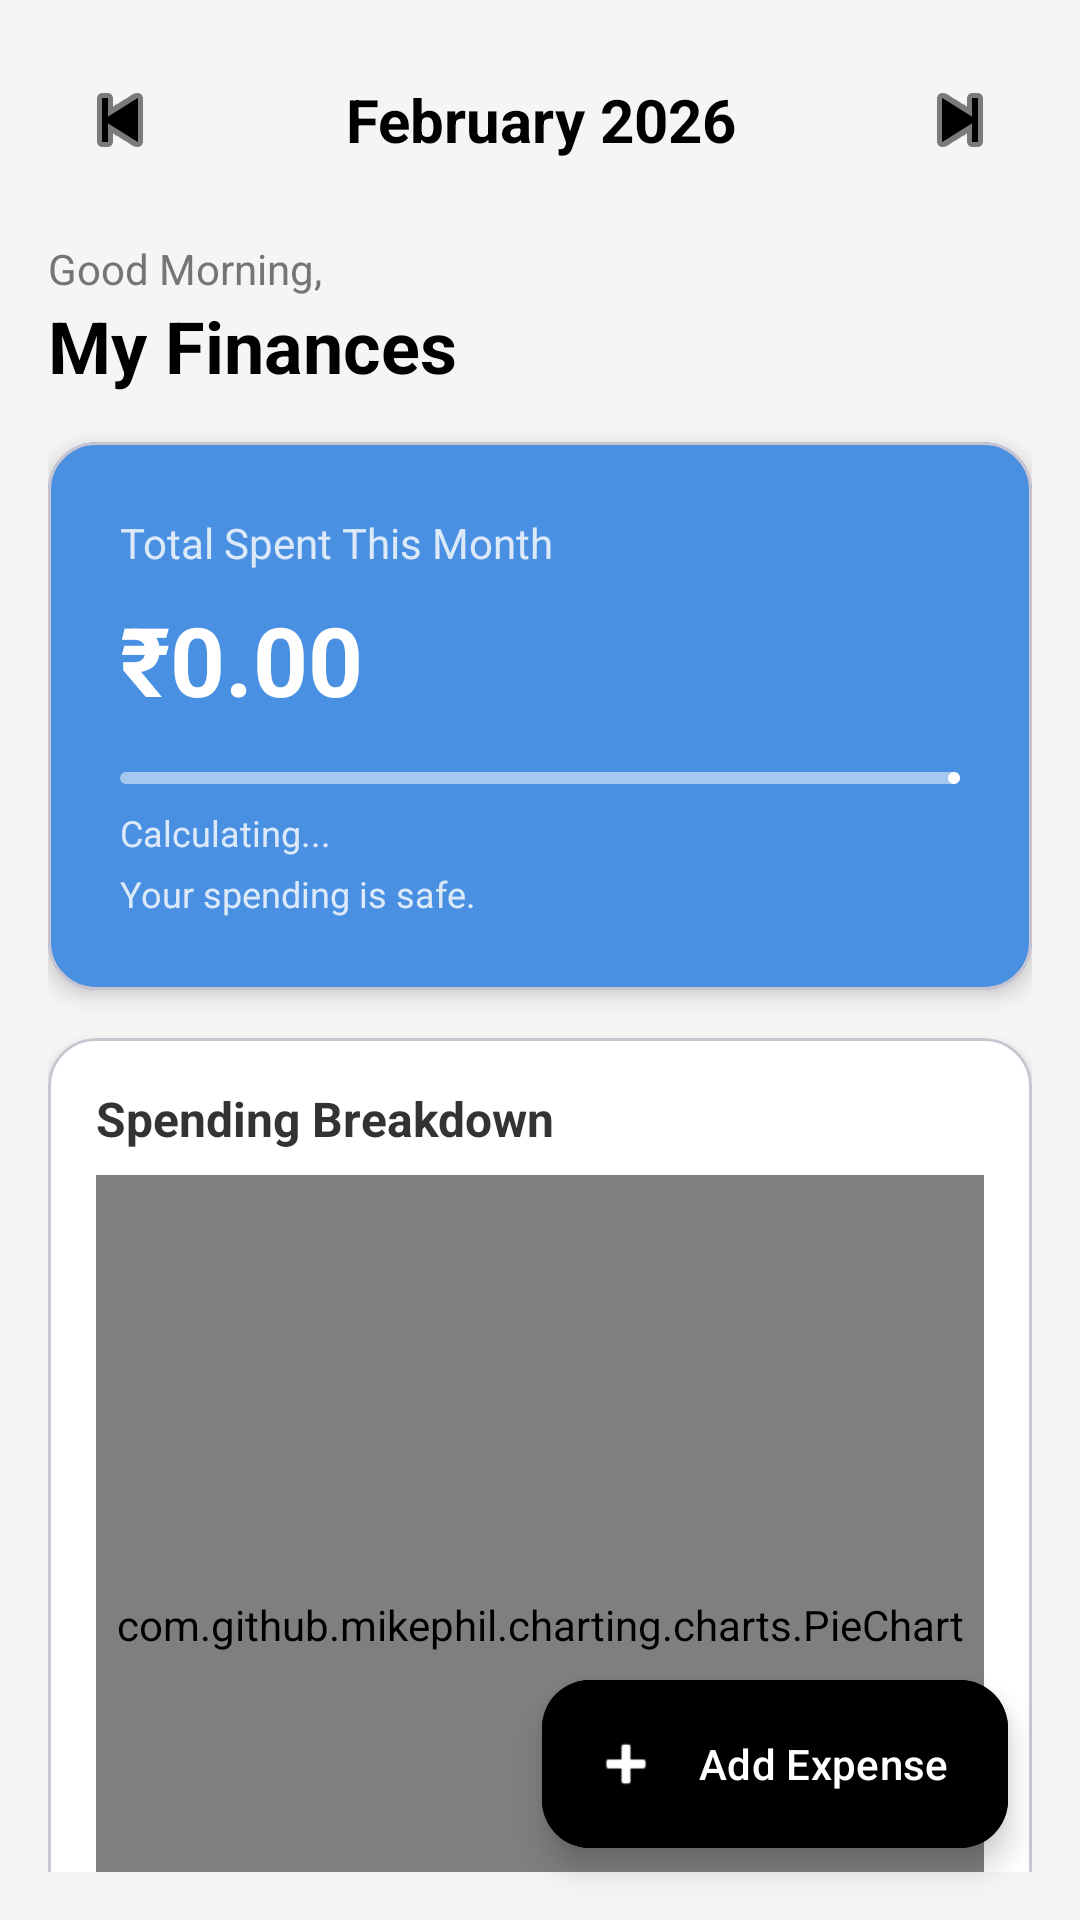

Icons on this 1080px x 1920px Android screen, each with the point to tap as [x,y]:
Next Month: [960,120]
Previous Month: [120,120]
